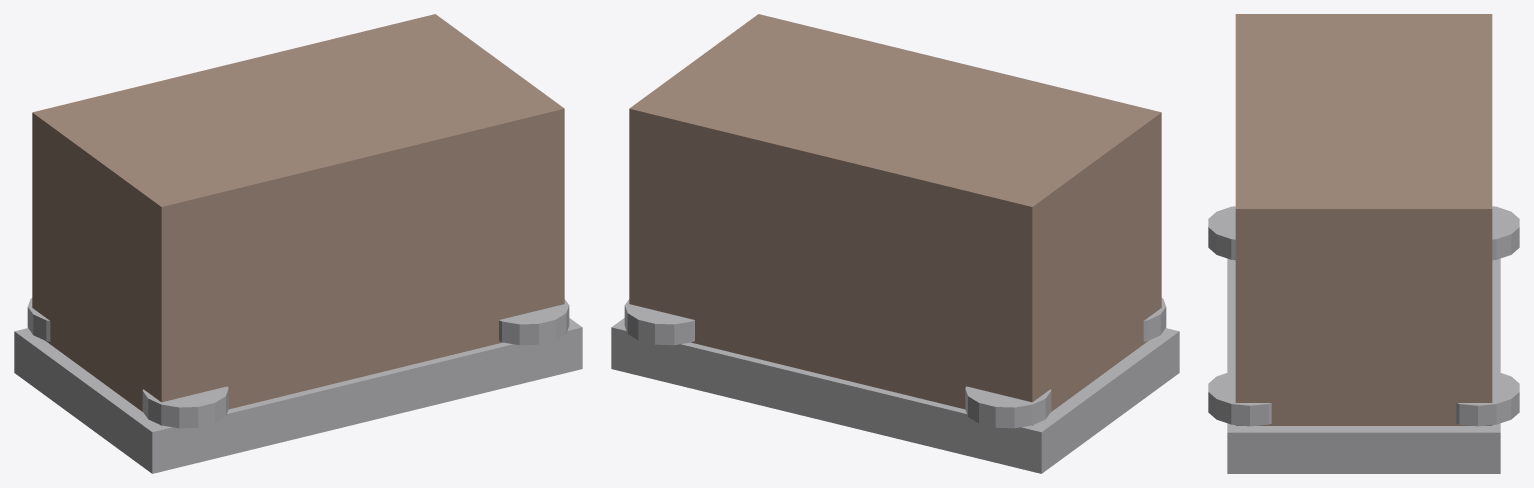
File: ore_cart_common.glb
The picture shows the model from 3 angles, left to right: view 1: azimuth 30°, elevation 25°; view 2: azimuth 150°, elevation 25°; view 3: azimuth 270°, elevation 25°; orthographic projection.
Parts seen in each view (by area): view 1: ore_cart; view 2: ore_cart; view 3: ore_cart.
Part boxes in pixels (<box>): ore_cart: <box>14,14,582,473</box>; ore_cart: <box>611,14,1179,473</box>; ore_cart: <box>1208,14,1519,473</box>.
Size of the model in its own units: 1.73 by 1 by 1.09.
